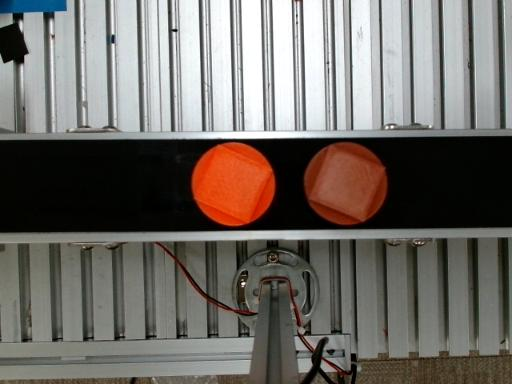Square: (194, 145, 273, 224), (309, 145, 386, 223)
